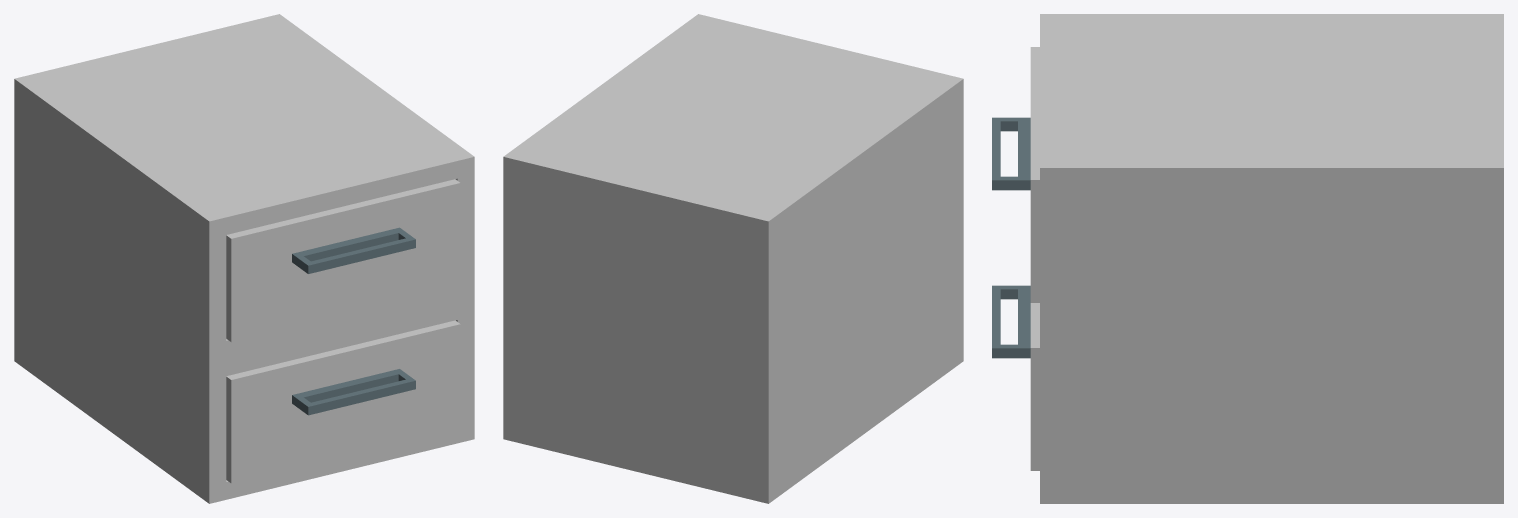
The model's file is CabinetSmallV1White.fbx.
3 views of the same model, side by side, from view 1: azimuth 30°, elevation 25°; view 2: azimuth 150°, elevation 25°; view 3: azimuth 270°, elevation 25° (orthographic). The views are drawn at different scales.
Visible parts, largest first — view 1: CabinetSmallV1White, CabinetSmallV1White_Drawer2, CabinetSmallV1White_Drawer1; view 2: CabinetSmallV1White; view 3: CabinetSmallV1White, CabinetSmallV1White_Drawer1, CabinetSmallV1White_Drawer2.
Boxes of the visible parts, x1,y1,x2,y2 form: CabinetSmallV1White: (14, 14, 474, 503); CabinetSmallV1White_Drawer2: (226, 320, 460, 483); CabinetSmallV1White_Drawer1: (226, 179, 460, 342); CabinetSmallV1White: (503, 14, 963, 503); CabinetSmallV1White: (1040, 14, 1503, 503); CabinetSmallV1White_Drawer1: (992, 47, 1039, 302); CabinetSmallV1White_Drawer2: (992, 285, 1039, 470).
Bounding box in the file's own units: 39.32 × 40 × 55.23.
